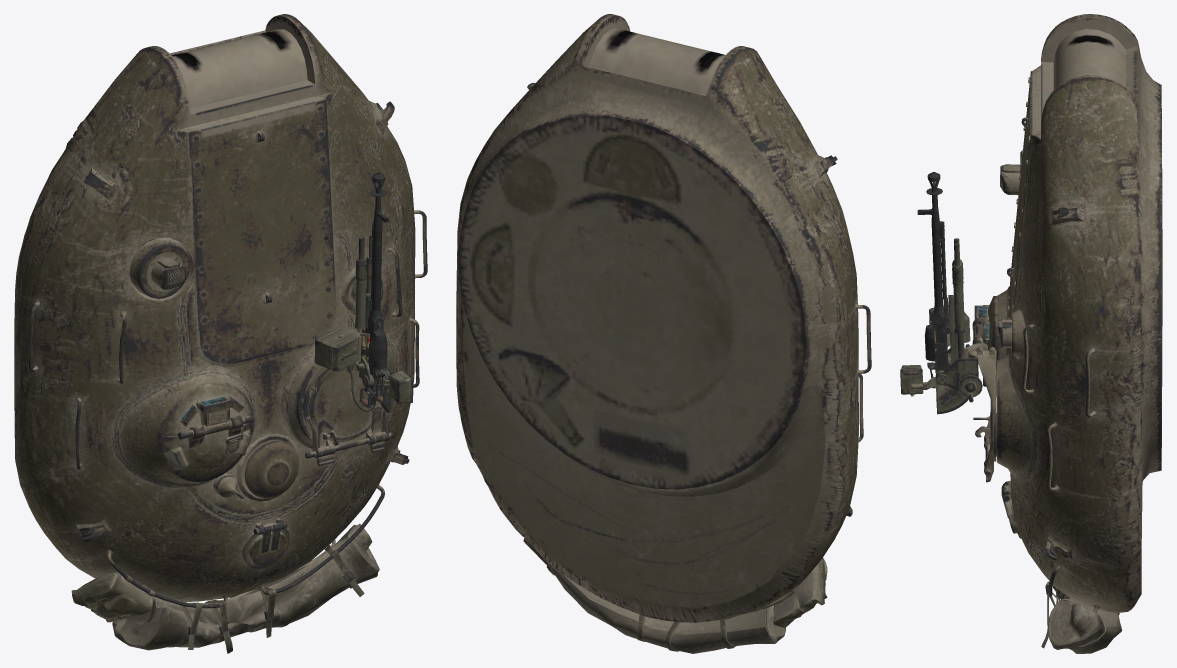
Rendered from Turret_02.glb.
3 renders of one model, left to right at view 1: azimuth 30°, elevation 25°; view 2: azimuth 150°, elevation 25°; view 3: azimuth 270°, elevation 25°, orthographic. The views are drawn at different scales.
Visible parts, largest first — view 1: set_0_group_0; view 2: set_0_group_0; view 3: set_0_group_0.
Boxes of the visible parts, x1,y1,x2,y2 form: set_0_group_0: (14,14,427,653); set_0_group_0: (456,14,871,653); set_0_group_0: (900,14,1162,653).
Size of the model in its own units: 2.88 by 4.2 by 1.71.
Materials: 1 (1 with a texture image).
